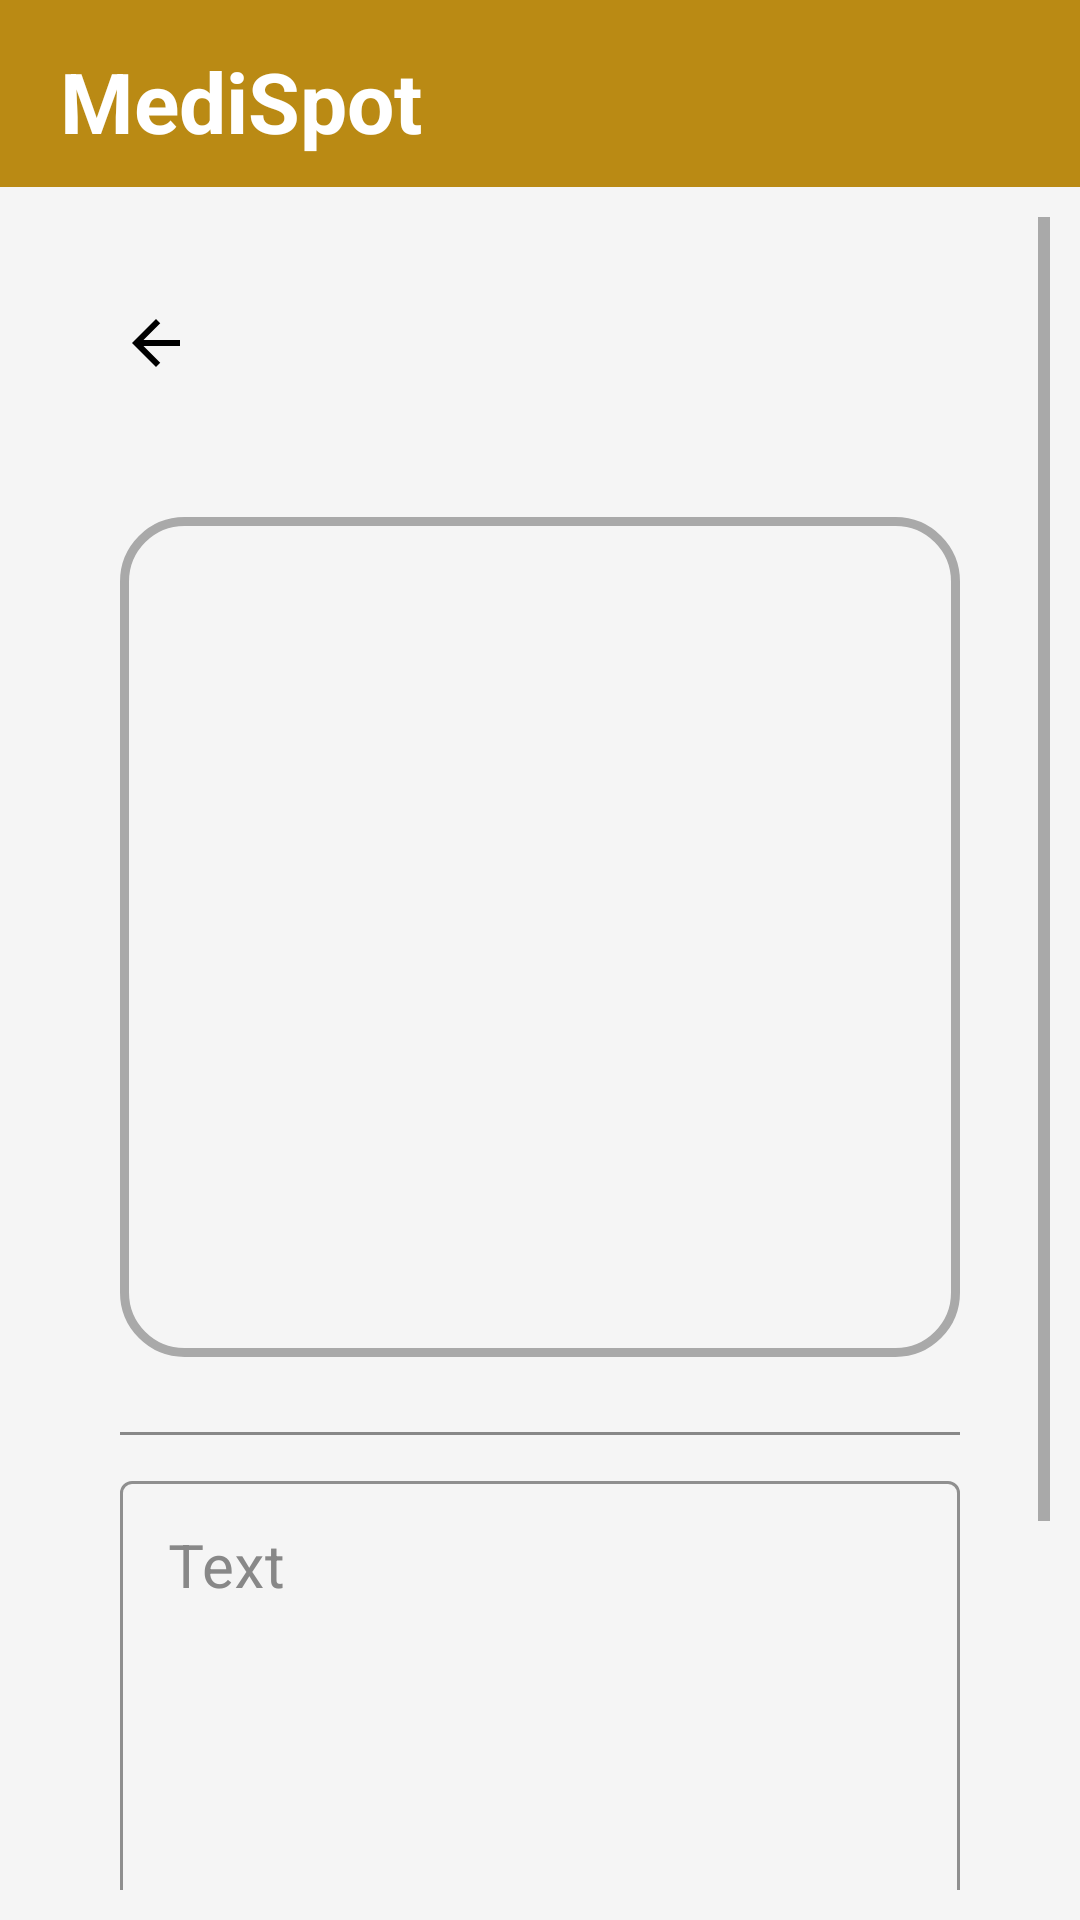

Where to tap for icons on this 1080*1920 app screen, as (x,y):
back button: (156,343)
